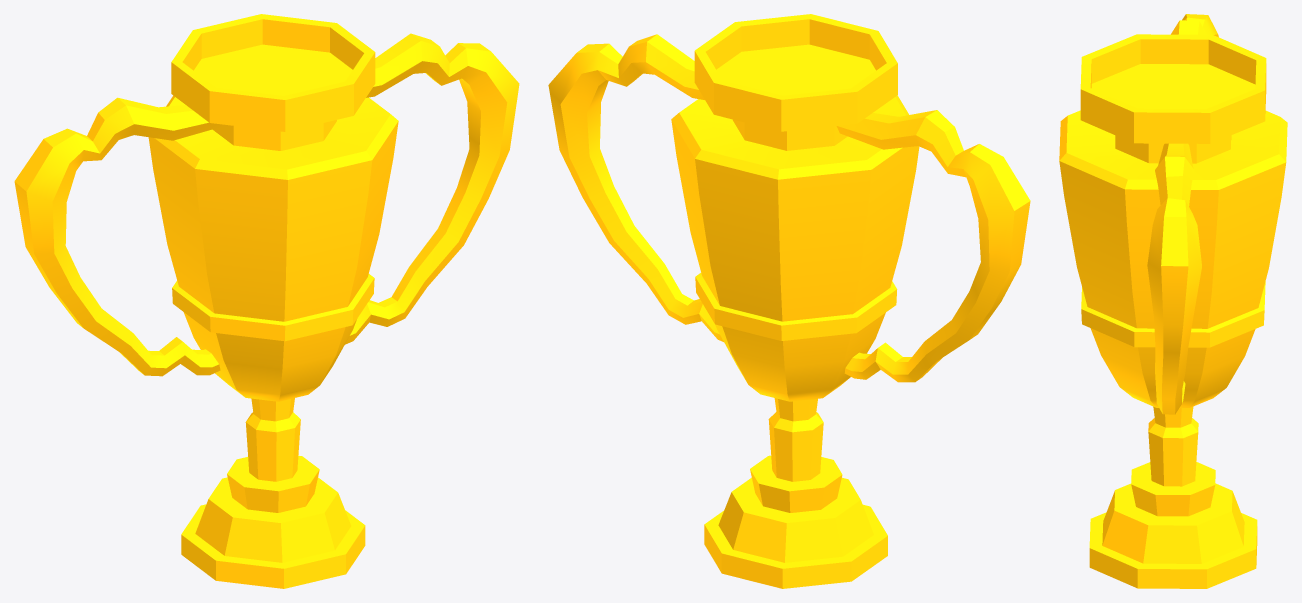
Rendered from trofej.fbx.
3 views of the same model, side by side, from view 1: azimuth 30°, elevation 25°; view 2: azimuth 150°, elevation 25°; view 3: azimuth 270°, elevation 25° (orthographic). The views are drawn at different scales.
Visible parts, largest first — view 1: Circle; view 2: Circle; view 3: Circle.
Boxes of the visible parts, box(x1,y1,x2,y2) form: Circle: box(14, 14, 519, 588); Circle: box(548, 14, 1030, 588); Circle: box(1059, 14, 1287, 588).
Size of the model in its own units: 490 by 480 by 207.
